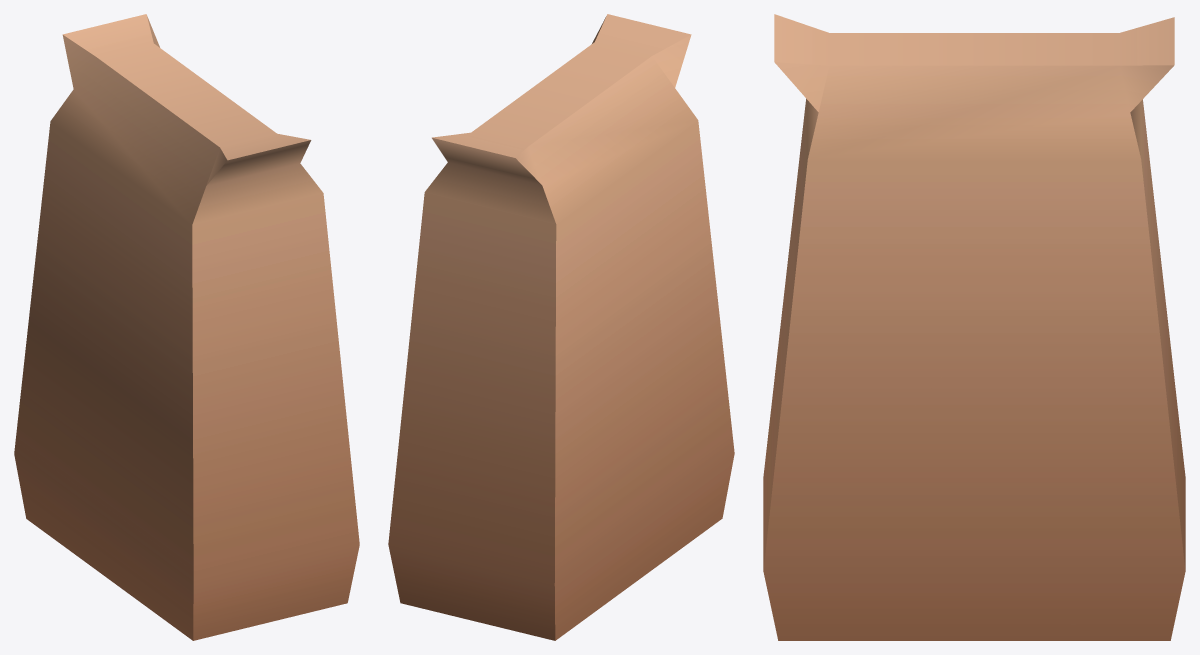
Rendered from kenney-food-bag.glb.
3 renders of one model, left to right at view 1: azimuth 30°, elevation 25°; view 2: azimuth 150°, elevation 25°; view 3: azimuth 270°, elevation 25°, orthographic. The views are drawn at different scales.
Visible parts, largest first — view 1: bag; view 2: bag; view 3: bag.
Boxes of the visible parts, left/top/right/bottom form: bag: left=14, top=14, right=359, bottom=640; bag: left=388, top=14, right=734, bottom=640; bag: left=763, top=14, right=1185, bottom=640.
Bounding box in the file's own units: 0.2201 × 0.5998 × 0.4118.
1 material, 1 textured.
